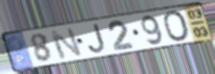2: (107, 19, 136, 53)
8: (30, 32, 54, 64)
9: (141, 14, 164, 46)
J: (87, 23, 108, 54)
N: (48, 26, 85, 60)
O: (162, 9, 193, 43)
